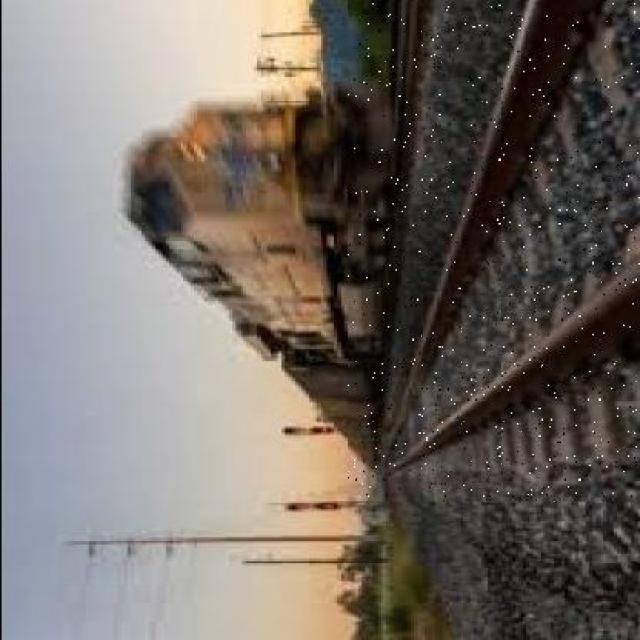rail: (348, 4, 639, 502)
